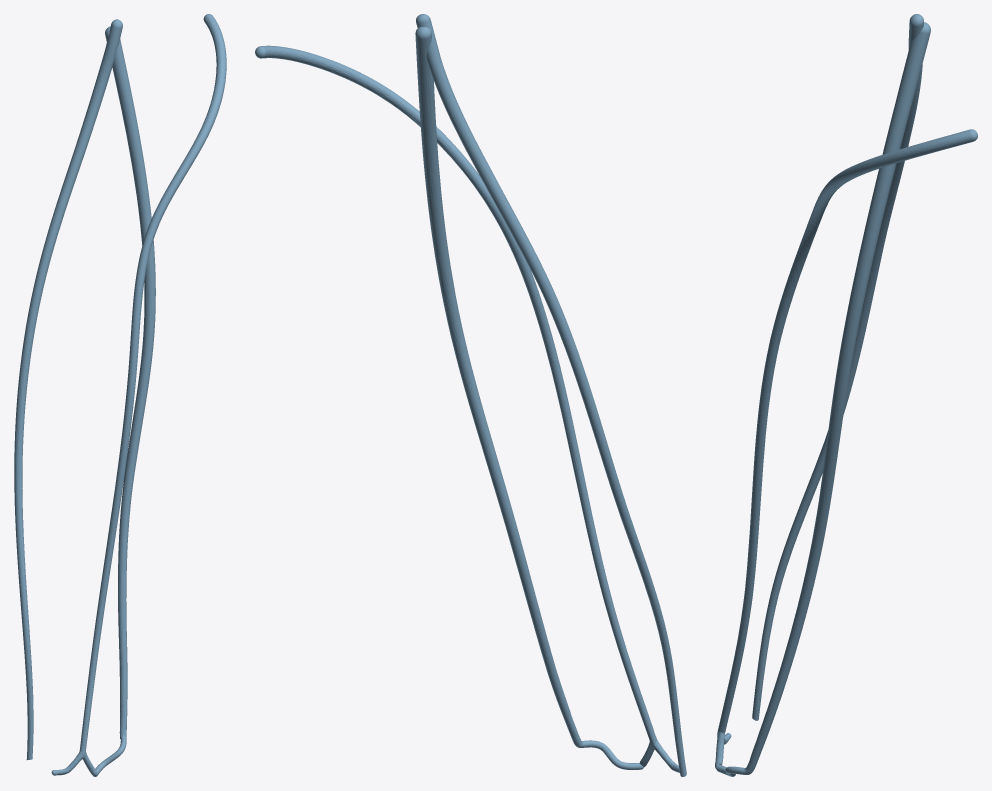
File: forearm-vein.glb
3 views of the same model, side by side, from view 1: azimuth 30°, elevation 25°; view 2: azimuth 150°, elevation 25°; view 3: azimuth 270°, elevation 25° (orthographic). The views are drawn at different scales.
Visible parts, largest first — view 1: ulnar-venae-comitantes__BP5920, radial-venae-comitantes__BP5927, median-antebrachial-vein__BP5934; view 2: ulnar-venae-comitantes__BP5920, median-antebrachial-vein__BP5934, radial-venae-comitantes__BP5927; view 3: ulnar-venae-comitantes__BP5920, median-antebrachial-vein__BP5934, radial-venae-comitantes__BP5927.
Boxes of the visible parts, box(x1,y1,x2,y2) form: ulnar-venae-comitantes__BP5920: box(93, 26, 155, 776); radial-venae-comitantes__BP5927: box(14, 19, 122, 759); median-antebrachial-vein__BP5934: box(51, 14, 226, 776); ulnar-venae-comitantes__BP5920: box(415, 27, 643, 769); median-antebrachial-vein__BP5934: box(255, 45, 679, 772); radial-venae-comitantes__BP5927: box(416, 14, 686, 776); ulnar-venae-comitantes__BP5920: box(716, 22, 930, 776); median-antebrachial-vein__BP5934: box(715, 129, 977, 768); radial-venae-comitantes__BP5927: box(752, 14, 923, 720).
Size of the model in its own units: 0.9063 by 2.12 by 0.6167.
